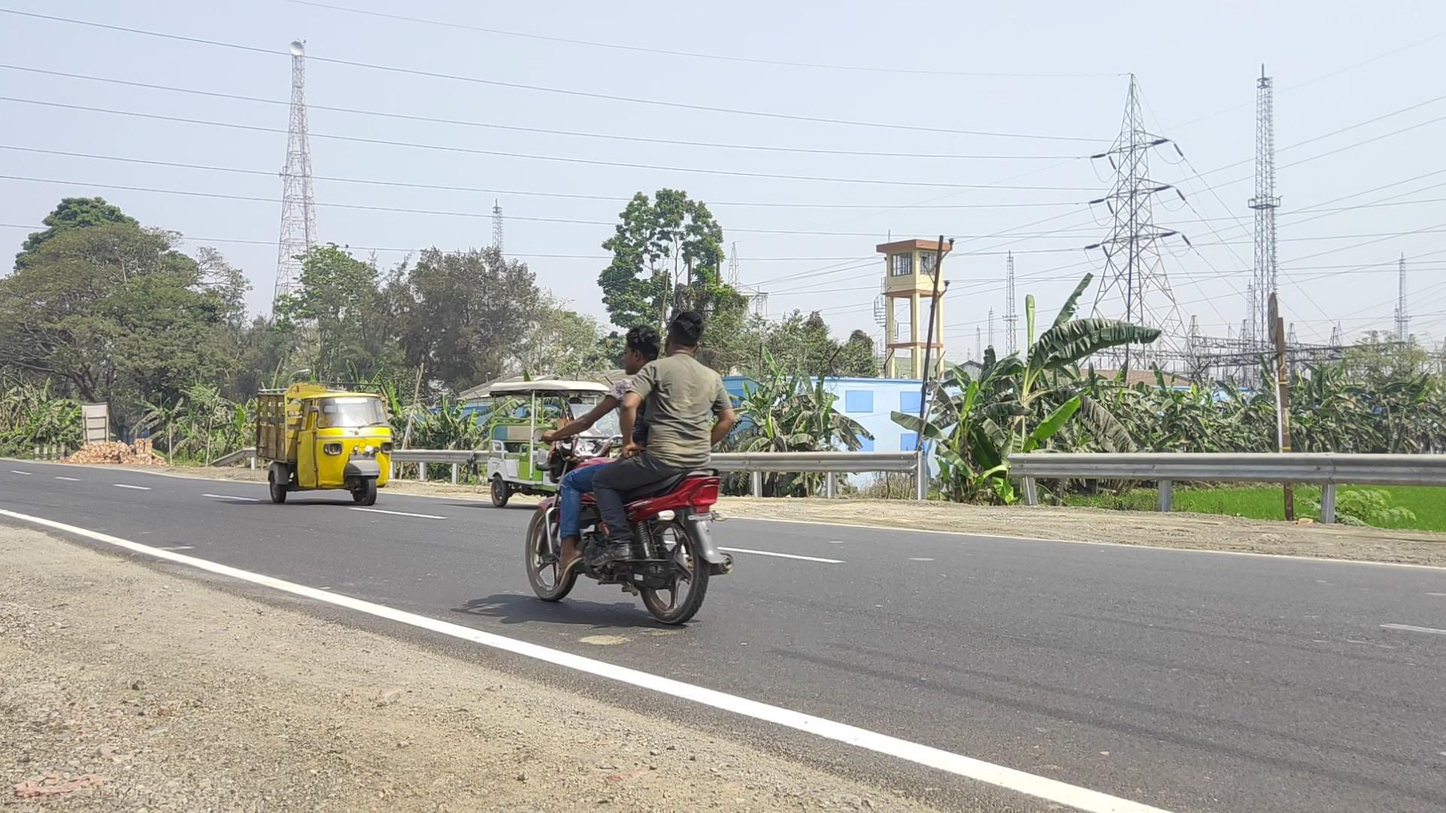Auto: (487, 380, 630, 509)
bike: (526, 313, 734, 624)
van: (256, 382, 393, 506)
